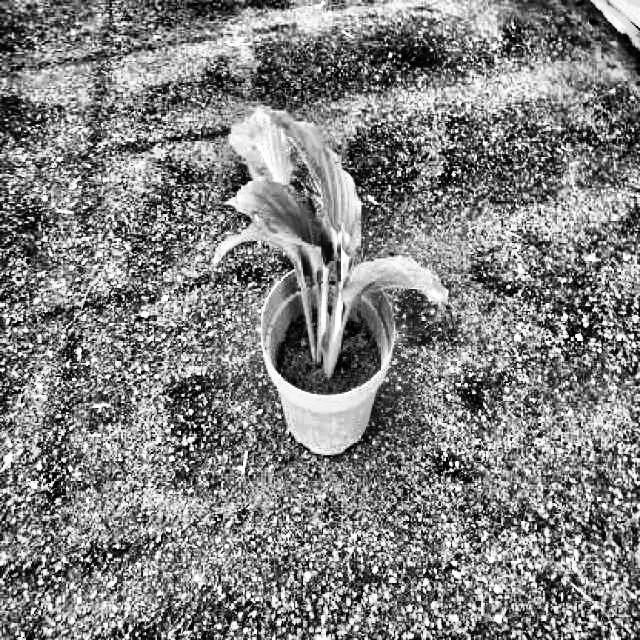plants: (215, 104, 443, 380)
